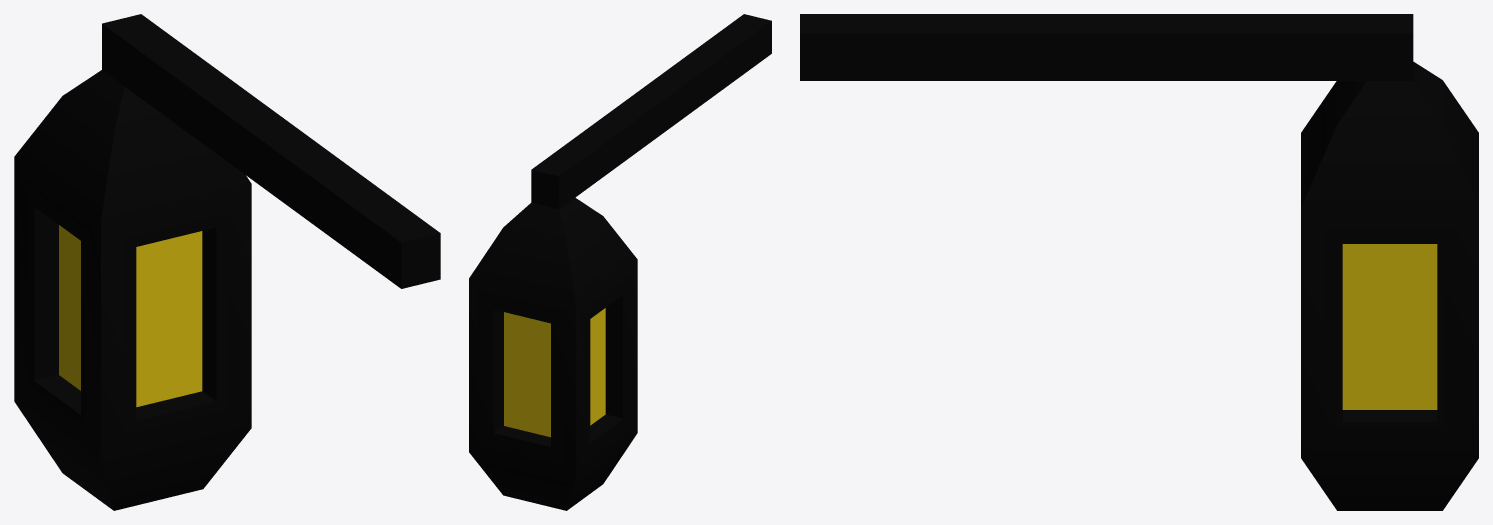
The model's file is lampaš.fbx.
3 renders of one model, left to right at view 1: azimuth 30°, elevation 25°; view 2: azimuth 150°, elevation 25°; view 3: azimuth 270°, elevation 25°, orthographic. The views are drawn at different scales.
Visible parts, largest first — view 1: Cube.004; view 2: Cube.004; view 3: Cube.004.
Boxes of the visible parts, <box> form: Cube.004: <box>14,14,440,510</box>; Cube.004: <box>469,14,771,510</box>; Cube.004: <box>800,14,1478,510</box>.
Size of the model in its own units: 116 by 335 by 444.
